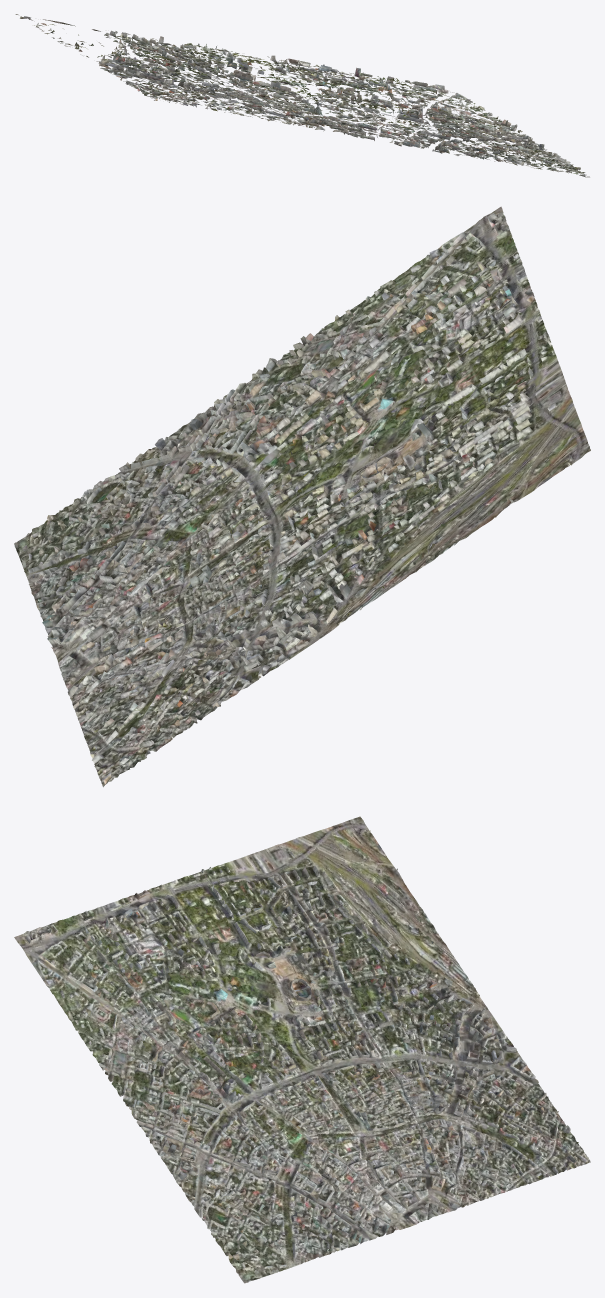
3 renders of one model, top to bottom at view 1: azimuth 30°, elevation 25°; view 2: azimuth 150°, elevation 25°; view 3: azimuth 270°, elevation 25°, orthographic. The views are drawn at different scales.
Bounding box in the file's own units: 5085 × 2328 × 5226.
Materials: 1 (1 with a texture image).
